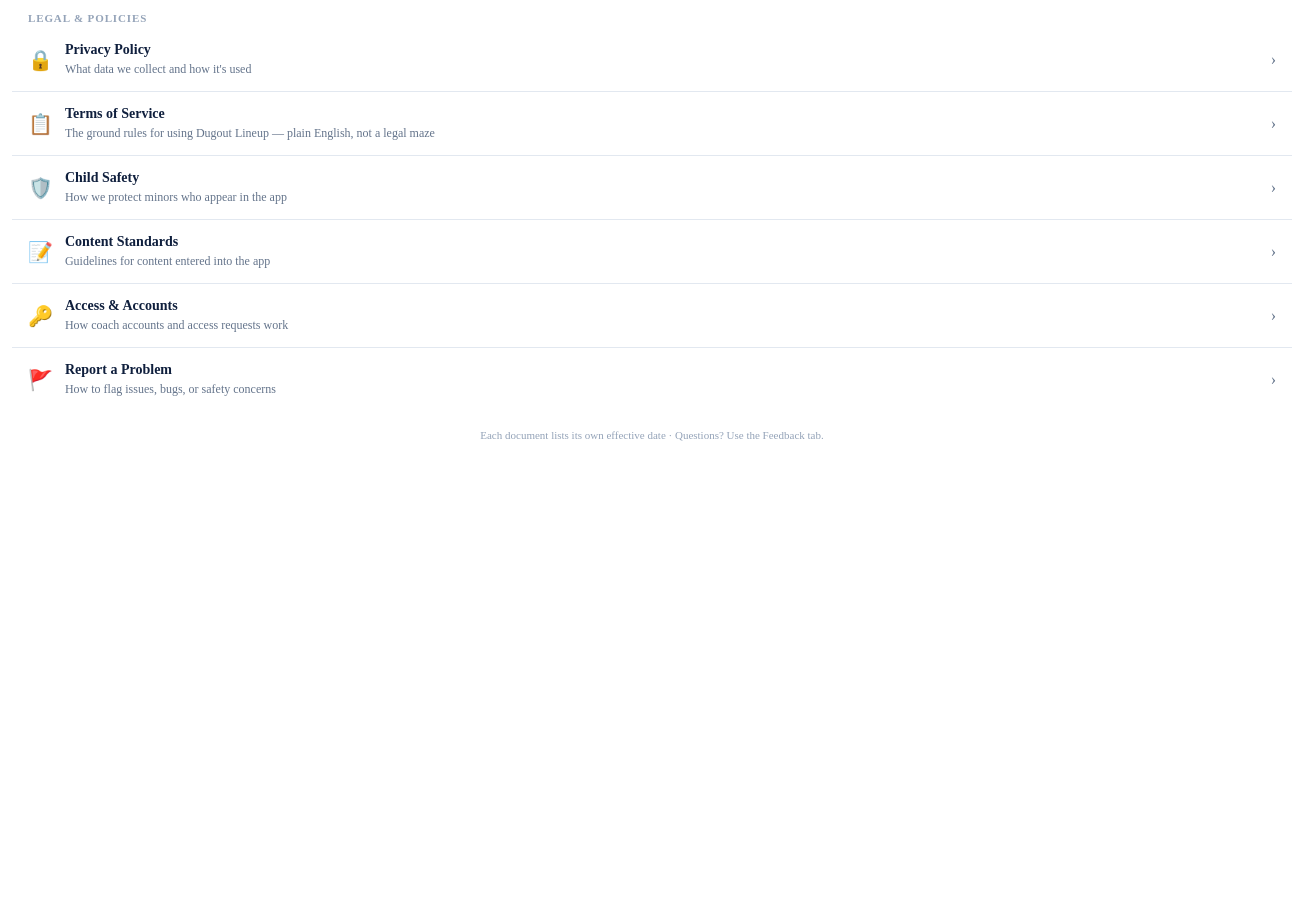
Scenario: LegalSection — primitive migration guard › L2: clicking a doc opens the detail view (Back button appears)
Expected: the text "‹ Back" is not shown
Click the text "Privacy Policy" at (108, 50), box [65,42,151,57]
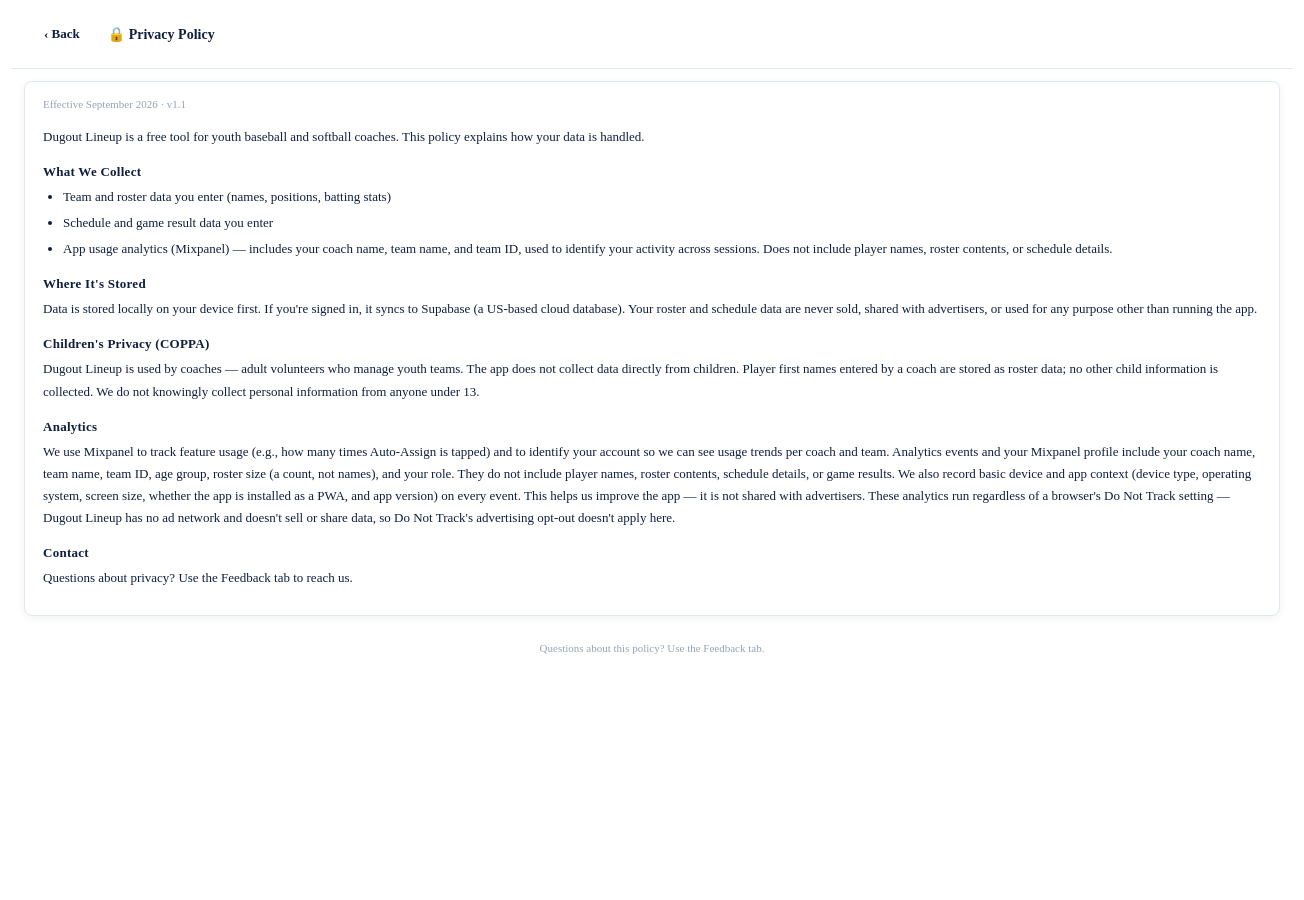
Expected: the text "‹ Back" is shown, [44,26,80,42]
